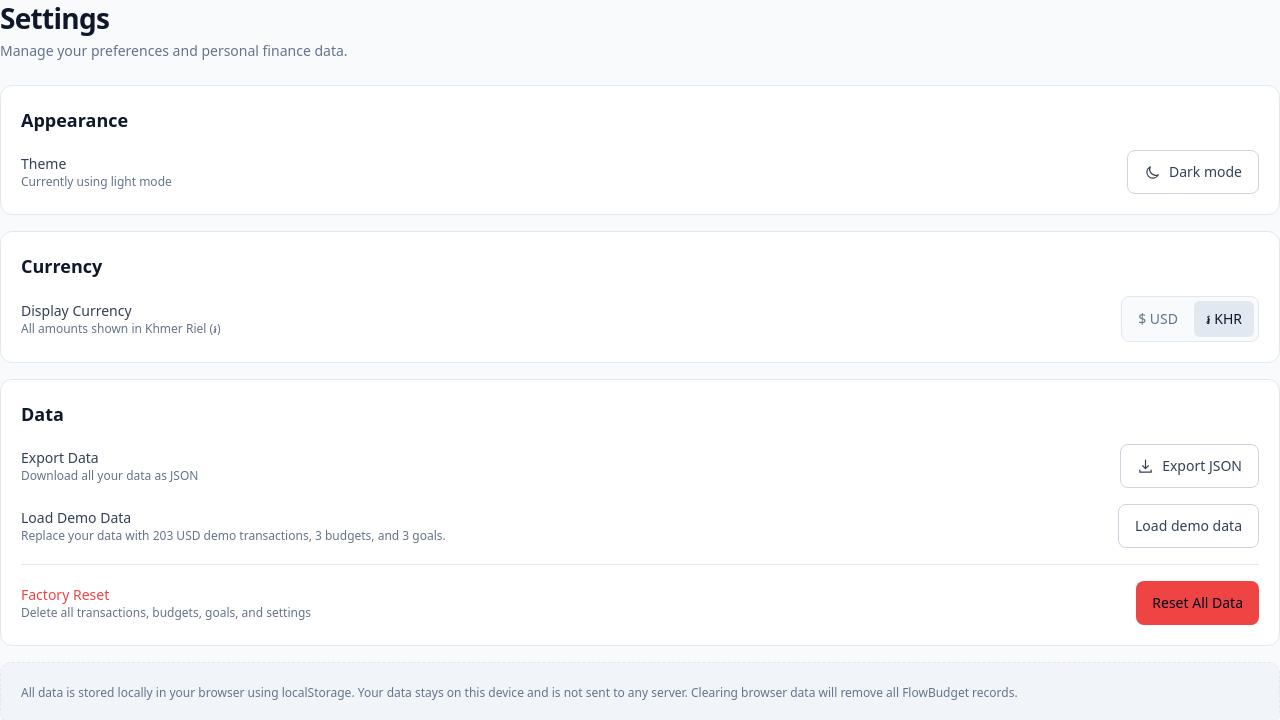
Scenario: demo data › confirms replacement and preserves existing data when canceled
Later steps or results of the test are not shown.
Click the button "Load demo data": (1188, 526) [1118,504,1259,548]
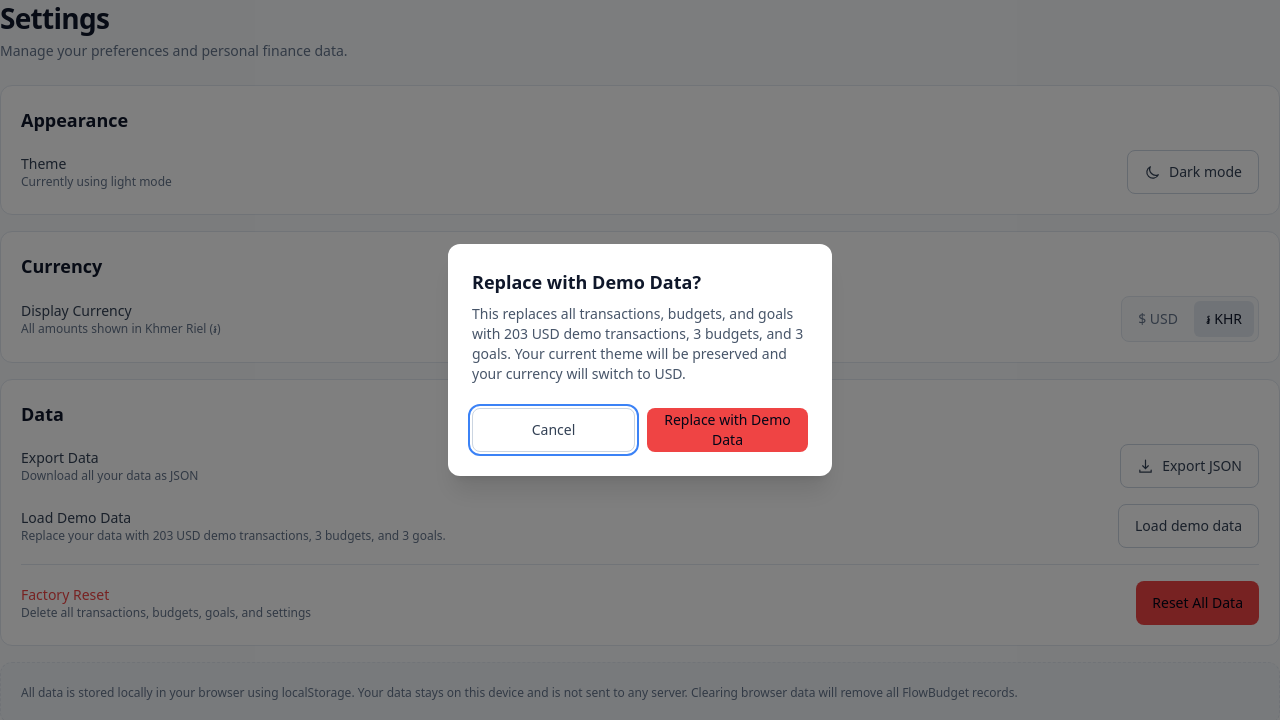
Expected: the dialog shows "203 USD demo transactions, 3 budgets, and 3 goals", [472,304,803,383]
Expected: the button "Cancel" is shown
Click the button "Cancel": (554, 430) [472,408,635,452]
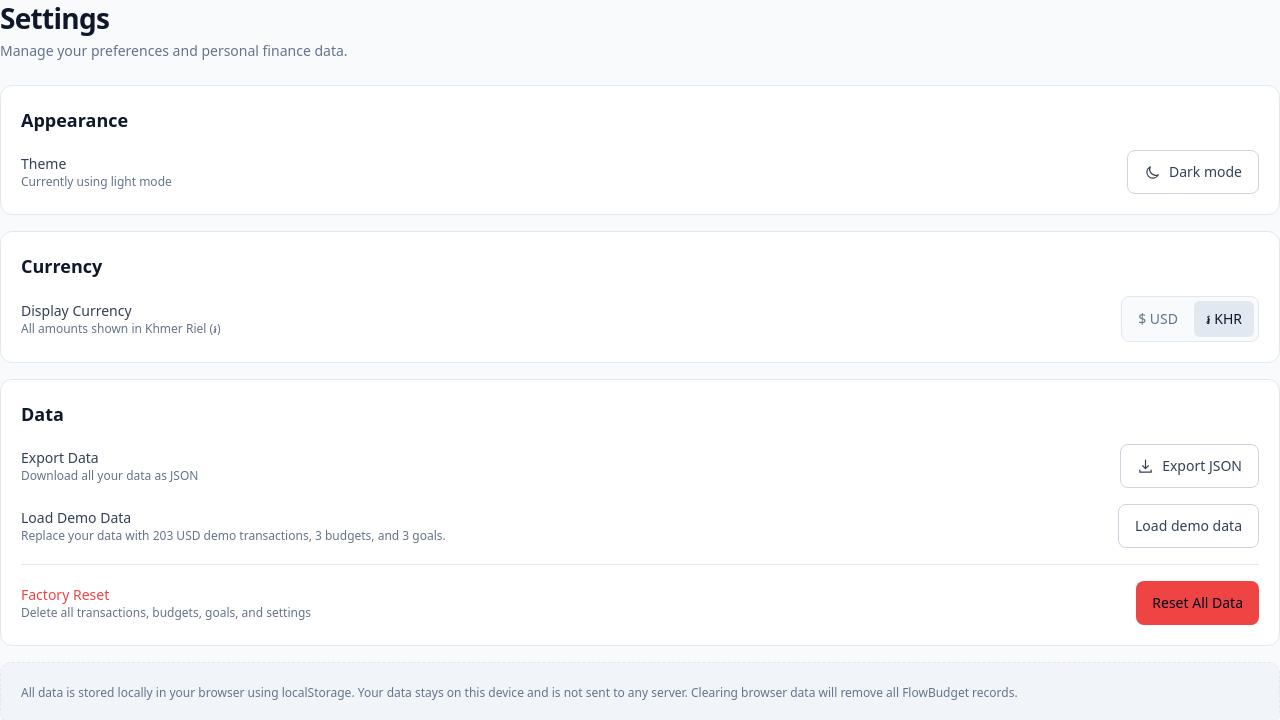
Click the button "Load demo data": (1188, 526) [1118,504,1259,548]
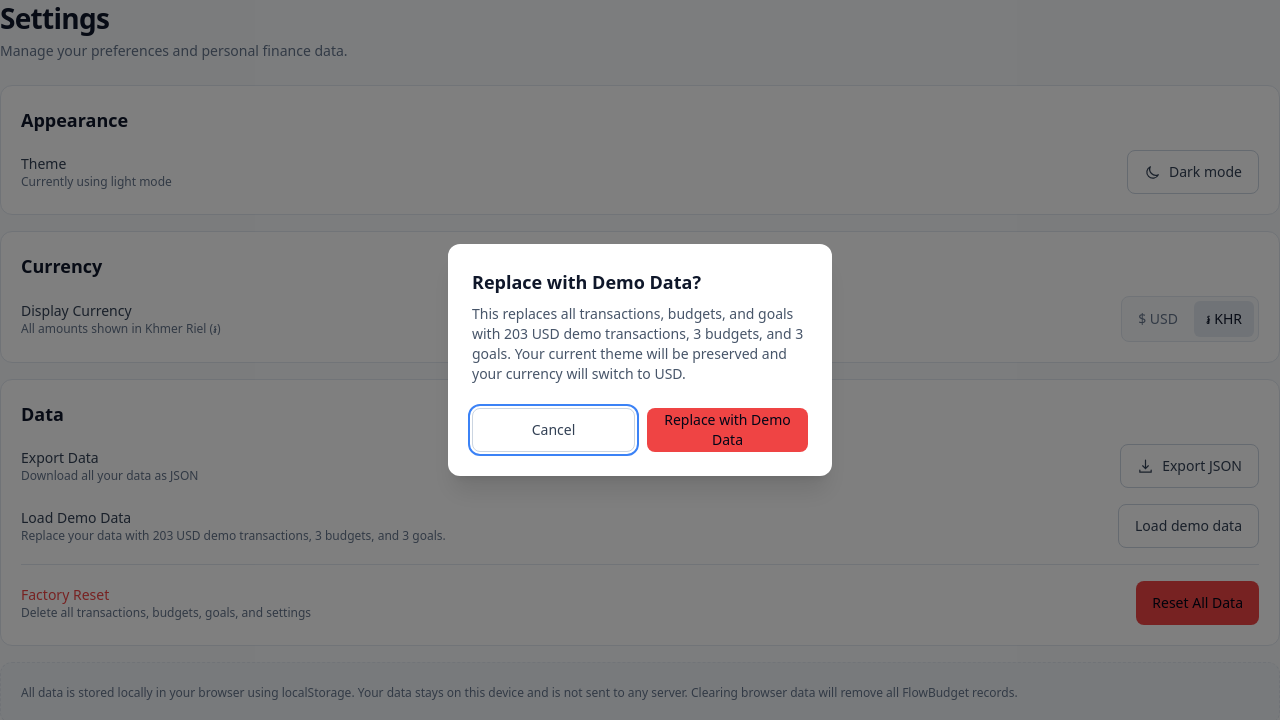
Expected: the button "Replace with Demo Data" is shown, [647,408,808,452]
